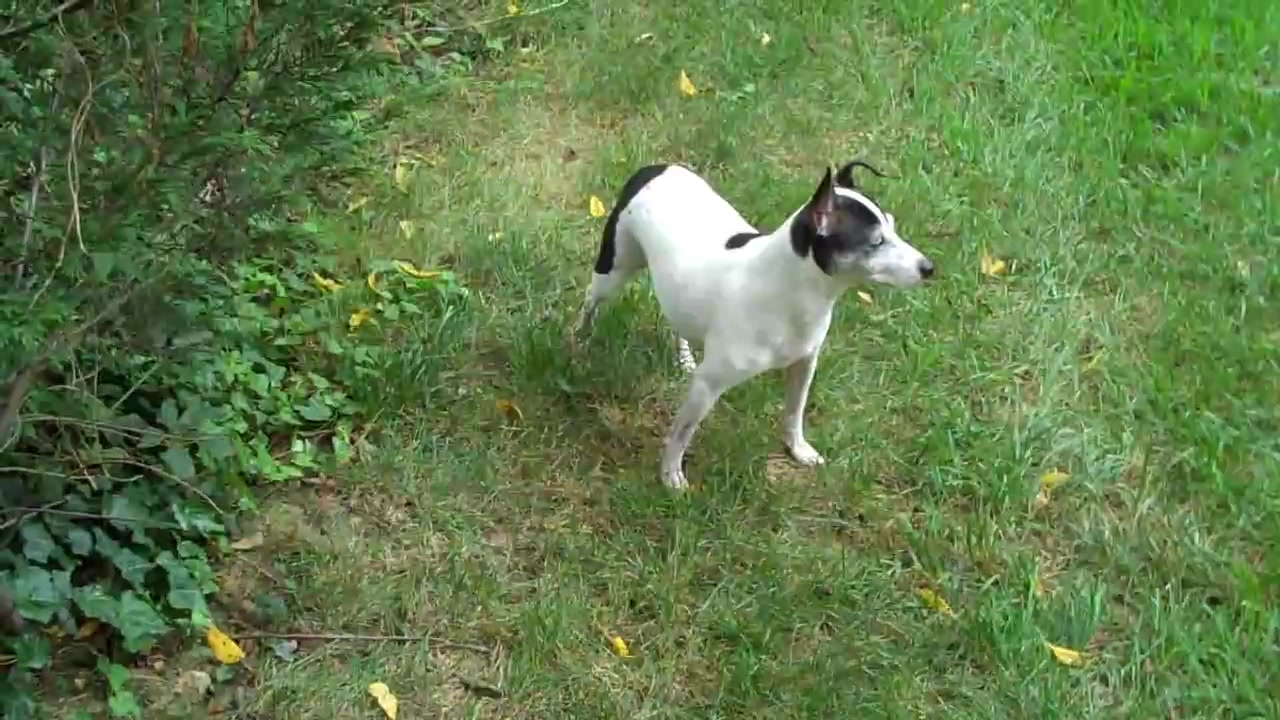dog: (576, 159, 940, 509)
